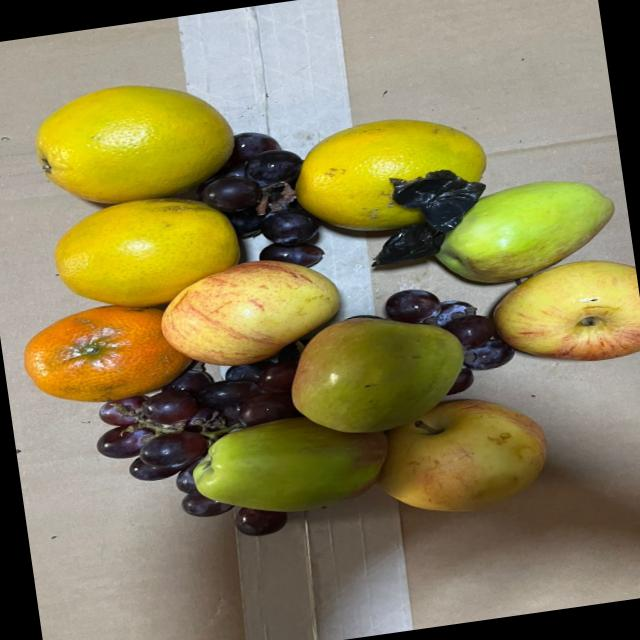bolsa_negra: (355, 168, 495, 279)
